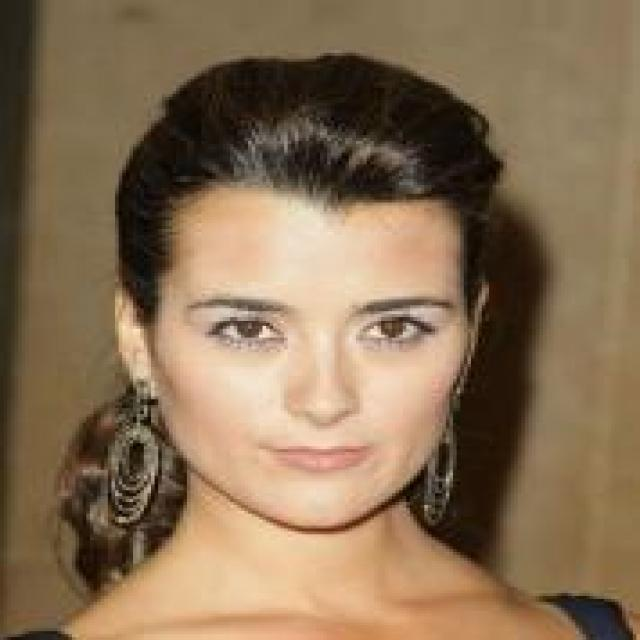nomask: (122, 155, 511, 555)
